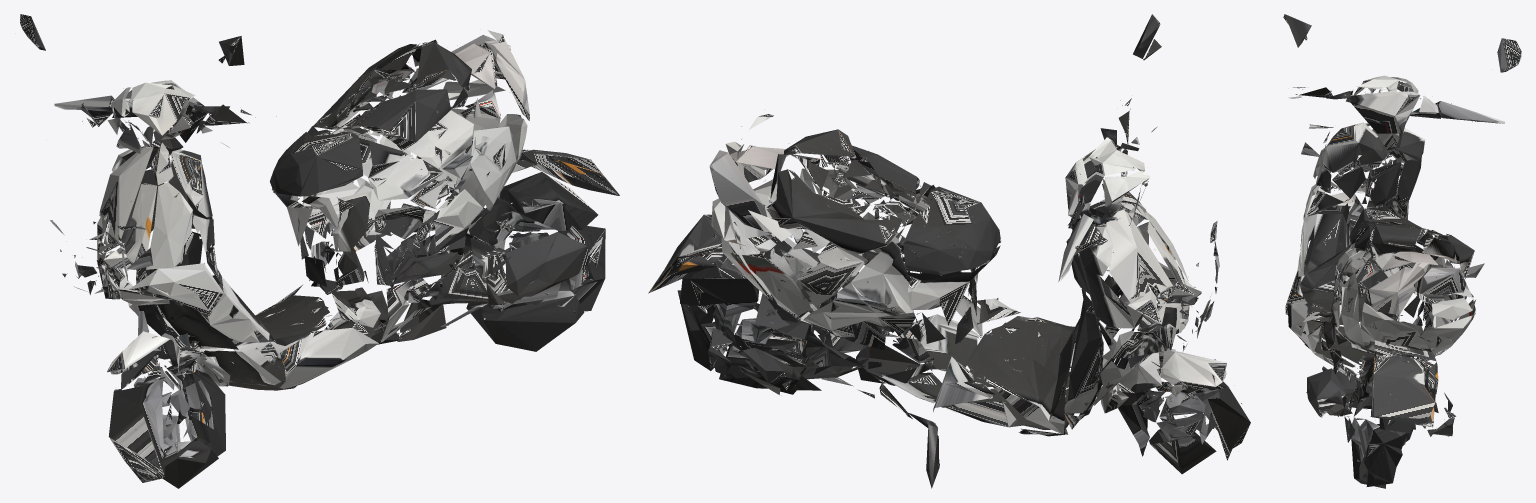
The model's file is CourtScooter.obj.
The picture shows the model from 3 angles, left to right: view 1: azimuth 30°, elevation 25°; view 2: azimuth 150°, elevation 25°; view 3: azimuth 270°, elevation 25°; orthographic projection. The views are drawn at different scales.
Size of the model in its own units: 1.8 by 1.41 by 0.8807.
1 material, 1 textured.
